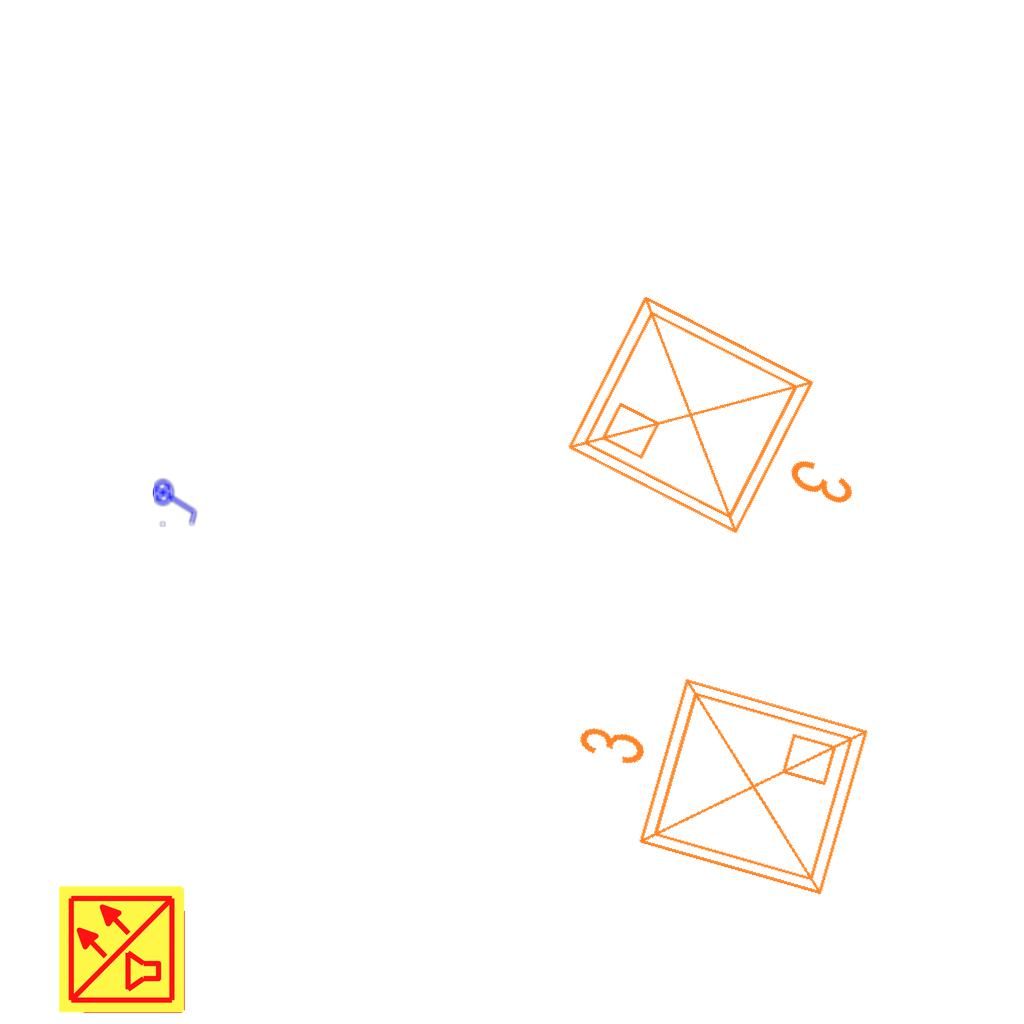Ausschalter_beleuchtet: (152, 473, 200, 529)
Einbaudownlights_LED_Konferenzraeume: (548, 269, 910, 591), (540, 637, 886, 921)
OKW_Multisensormelder_(Kombination_optischer_Rauch-Kahlenmonoxid_Waerme-Melder): (56, 883, 188, 1015)
